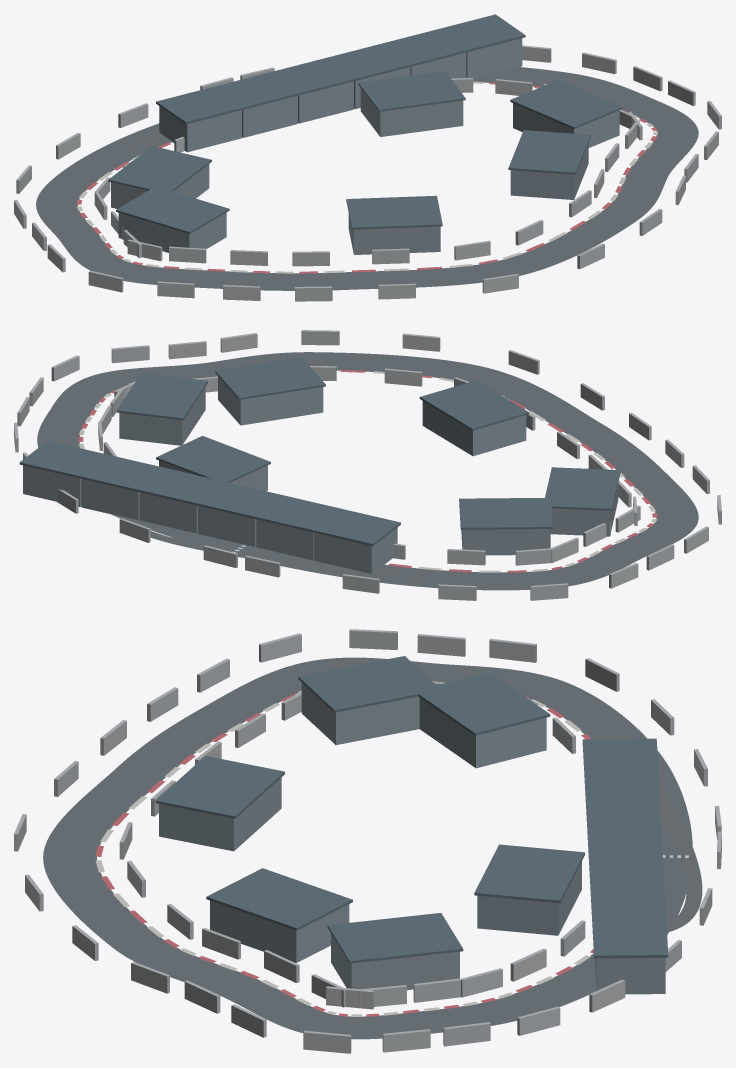
The picture shows the model from 3 angles, top to bottom: view 1: azimuth 30°, elevation 25°; view 2: azimuth 150°, elevation 25°; view 3: azimuth 270°, elevation 25°; orthographic projection. The views are drawn at different scales.
Parts seen in each view (by area): view 1: asphalt, grandstand_roof_1, grandstand_roof_0, grandstand_roof_3, grandstand_roof_4, grandstand_roof_2, grandstand_roof_5, grandstand_0, grandstand_4, pit_building_0, grandstand_3, grandstand_2 (+29 smaller); view 2: asphalt, grandstand_roof_2, grandstand_roof_3, grandstand_roof_1, grandstand_roof_0, grandstand_roof_4, grandstand_roof_5, grandstand_2, grandstand_3, pit_building_0, grandstand_1, grandstand_5 (+33 smaller); view 3: asphalt, grandstand_roof_2, grandstand_roof_1, grandstand_roof_3, grandstand_roof_4, grandstand_roof_0, grandstand_roof_5, grandstand_5, grandstand_2, grandstand_3, grandstand_4, grandstand_1 (+30 smaller).
Part boxes in pixels (x1,y1,x2,y2): asphalt: [36, 67, 698, 290]; grandstand_roof_1: [510, 80, 622, 128]; grandstand_roof_0: [358, 71, 465, 111]; grandstand_roof_3: [346, 195, 442, 229]; grandstand_roof_4: [116, 188, 229, 233]; grandstand_roof_2: [508, 130, 590, 174]; grandstand_roof_5: [108, 146, 211, 193]; grandstand_0: [360, 88, 463, 136]; grandstand_4: [118, 212, 226, 252]; pit_building_0: [159, 106, 241, 152]; grandstand_3: [348, 213, 440, 254]; grandstand_2: [510, 143, 588, 199]; asphalt: [37, 352, 698, 590]; grandstand_roof_2: [215, 357, 325, 399]; grandstand_roof_3: [419, 380, 529, 430]; grandstand_roof_1: [117, 373, 207, 420]; grandstand_roof_0: [156, 435, 270, 482]; grandstand_roof_4: [543, 467, 620, 510]; grandstand_roof_5: [459, 498, 552, 529]; grandstand_2: [218, 376, 323, 425]; grandstand_3: [422, 401, 526, 456]; pit_building_0: [314, 527, 397, 573]; grandstand_1: [119, 387, 205, 445]; grandstand_5: [461, 529, 550, 555]; asphalt: [43, 657, 692, 1039]; grandstand_roof_2: [206, 868, 352, 930]; grandstand_roof_1: [327, 913, 463, 963]; grandstand_roof_3: [155, 756, 284, 818]; grandstand_roof_4: [298, 656, 440, 712]; grandstand_roof_0: [474, 844, 584, 903]; grandstand_roof_5: [416, 672, 550, 735]; grandstand_5: [419, 697, 546, 768]; grandstand_2: [210, 900, 349, 962]; grandstand_3: [159, 777, 281, 851]; grandstand_4: [301, 682, 419, 744]; grandstand_1: [331, 933, 459, 990].
Size of the model in its own units: 55.94 by 2.64 by 41.06.
